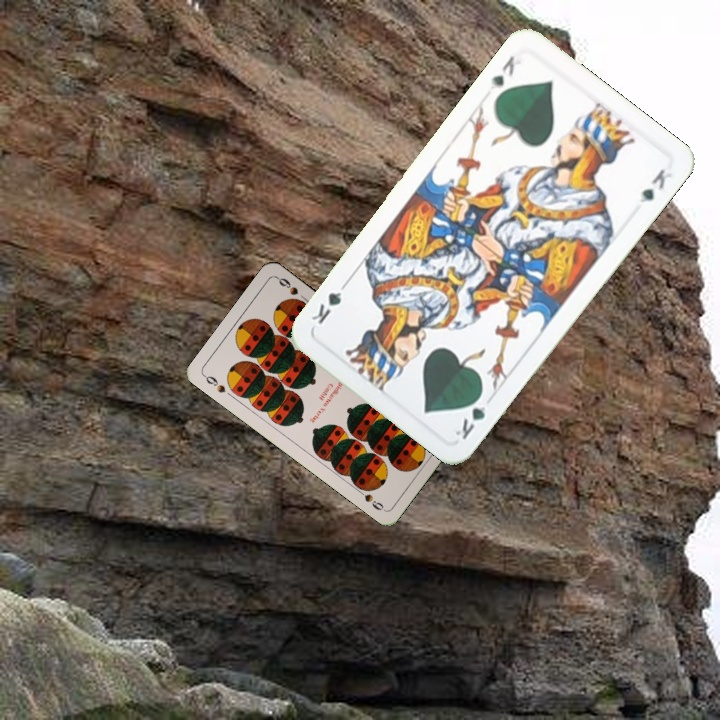GK: (451, 387, 489, 443), (486, 51, 518, 93)
S9: (200, 371, 228, 396)
